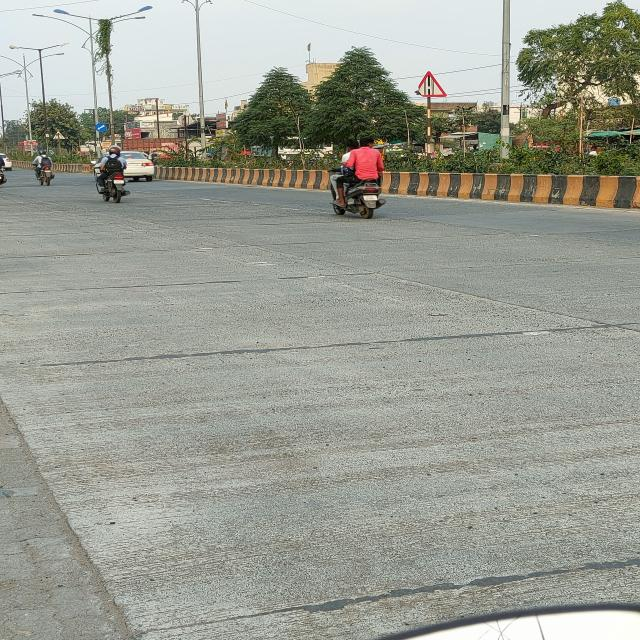ferry: (413, 72, 449, 98)
